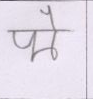o_matra: (47, 4, 59, 56)
